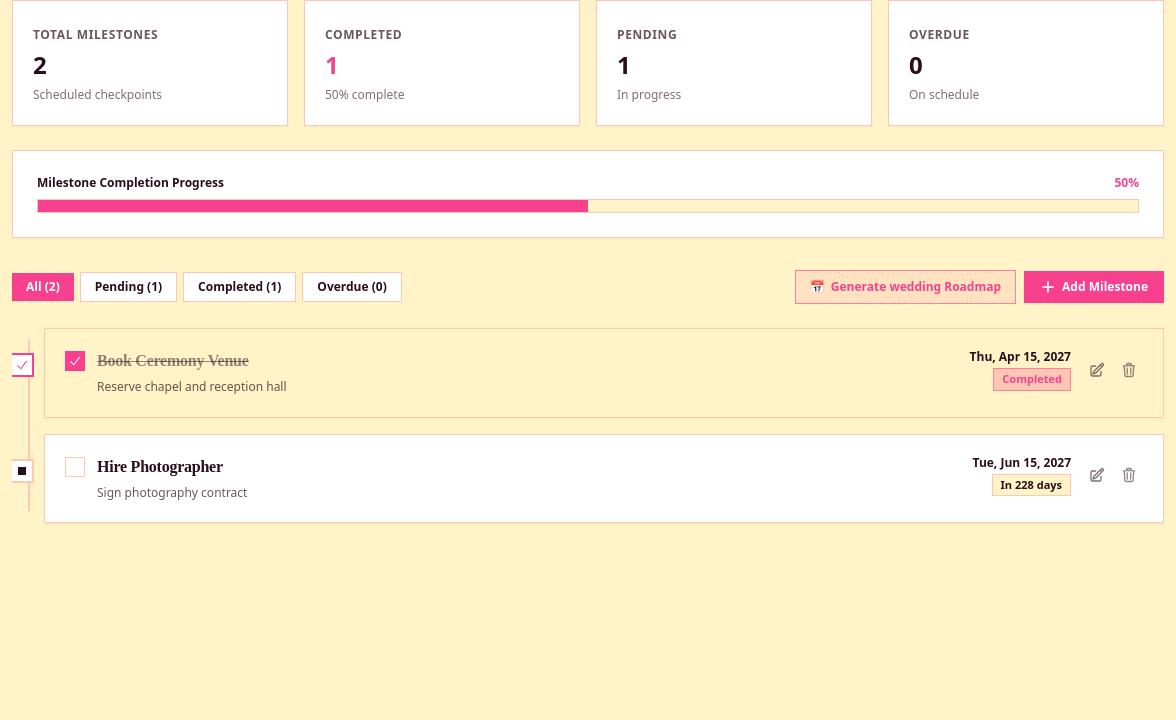
TimelineTracker Component › filters milestones by status
Expected: the heading "Book Ceremony Venue" is shown, [97,352,249,369]
// Click Pending filter
Click the button "Pending (1)" at [128, 287], box [80,272,177,302]
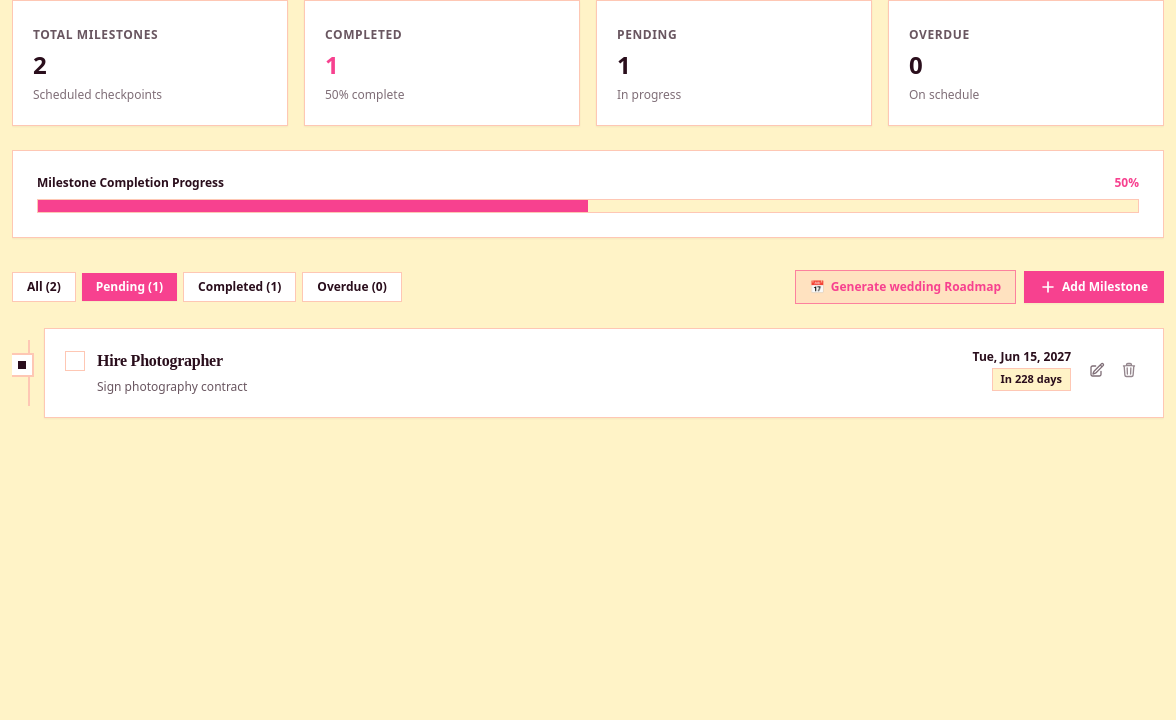
Expected: the heading "Hire Photographer" is shown, [97,352,223,369]
Expected: the heading "Book Ceremony Venue" is gone
// Click Completed filter
Click the button "Completed (1)" at [240, 287], box [183,272,296,302]
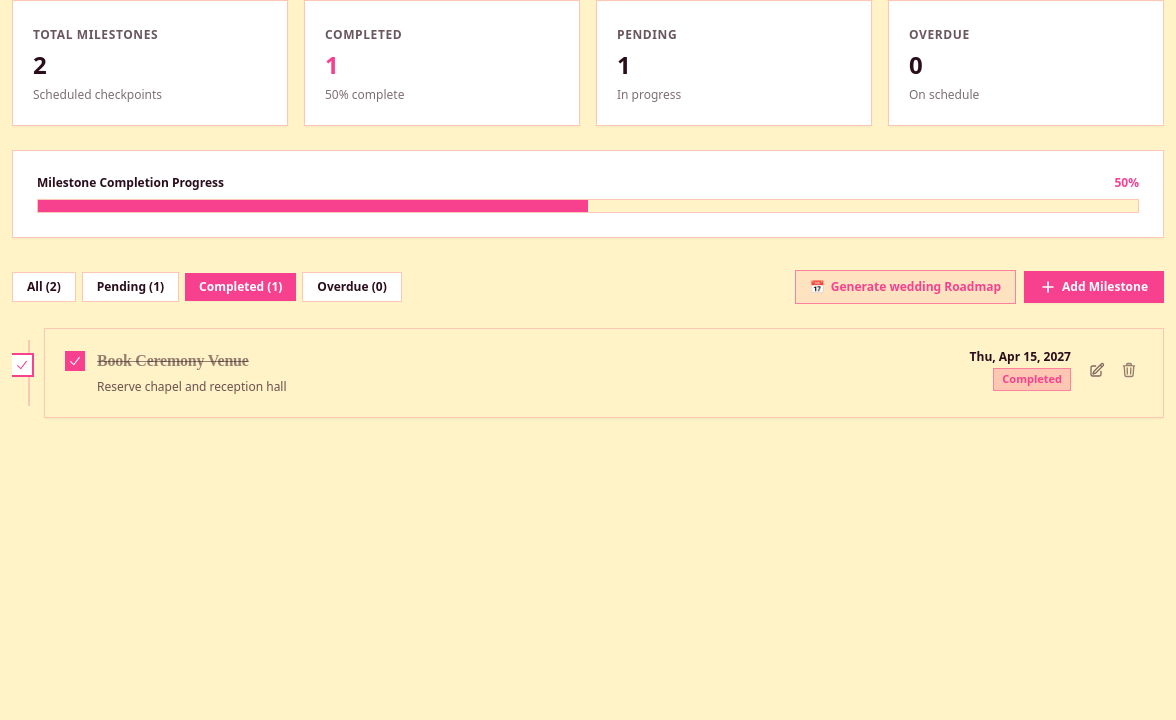
Expected: the heading "Book Ceremony Venue" is shown, [97,352,249,369]
Expected: the heading "Hire Photographer" is gone
